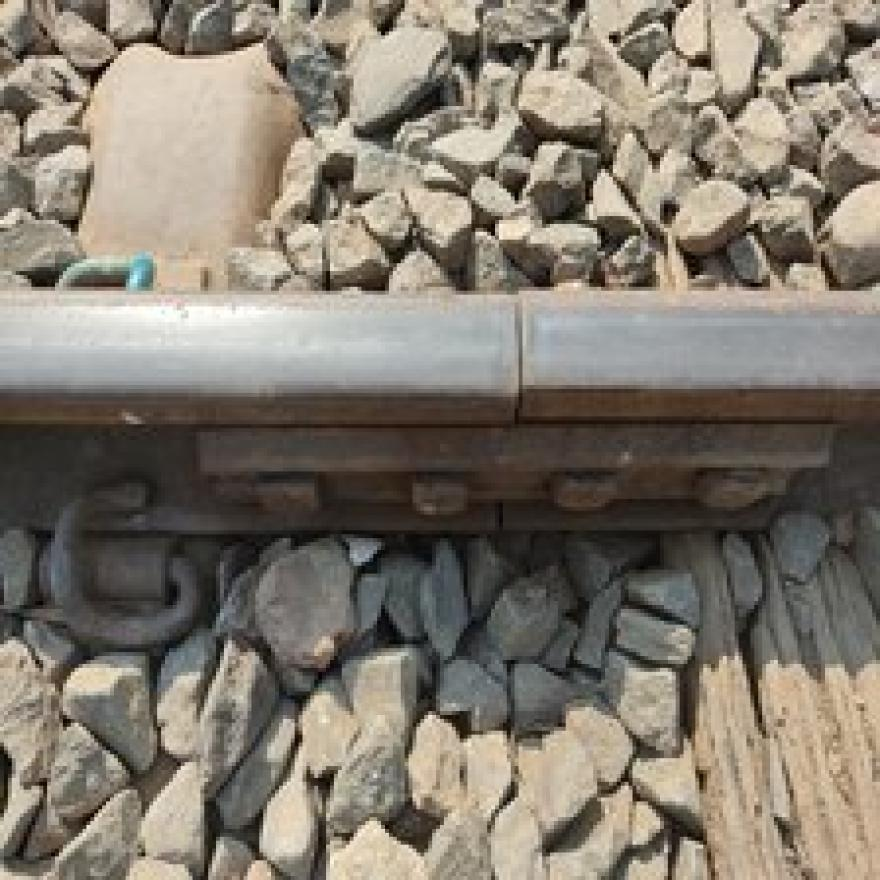railway-gap: (414, 263, 626, 449), (477, 502, 523, 538)
